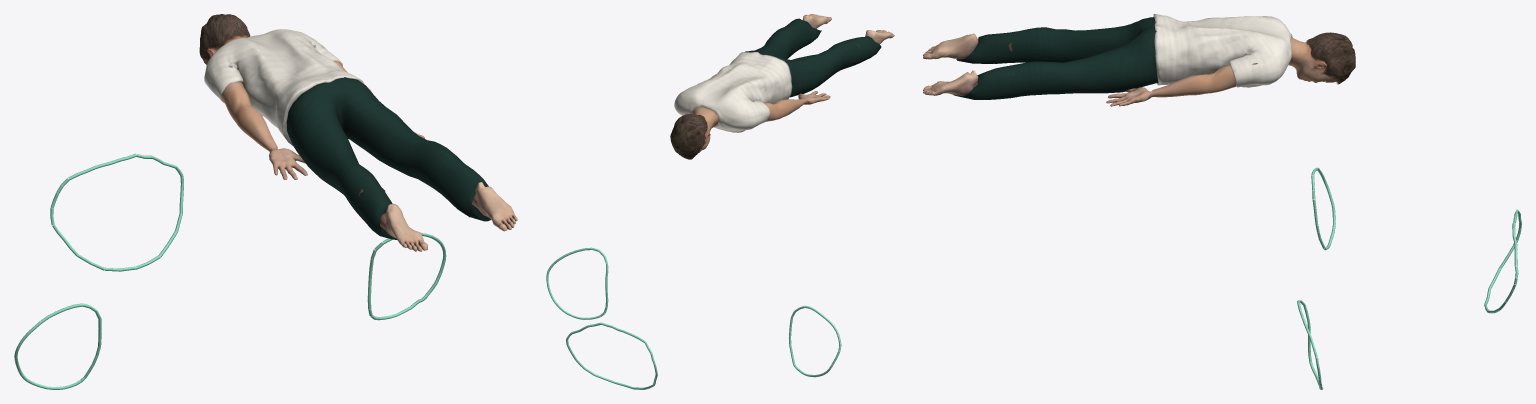
File: patient.glb
The picture shows the model from 3 angles, left to right: view 1: azimuth 30°, elevation 25°; view 2: azimuth 150°, elevation 25°; view 3: azimuth 270°, elevation 25°; orthographic projection. The views are drawn at different scales.
Visible parts, largest first — view 1: back_patient_pants, back_patient_shirt, back_patient_skin, back_tailored_hem, back_patient_hair; view 2: back_patient_shirt, back_patient_pants, back_tailored_hem, back_patient_skin, back_patient_hair; view 3: back_patient_pants, back_patient_shirt, back_patient_skin, back_tailored_hem, back_patient_hair.
Part boxes in pixels (left/top/right/bottom): back_patient_pants: left=286, top=77, right=490, bottom=239; back_patient_shirt: left=204, top=29, right=364, bottom=146; back_patient_skin: left=207, top=35, right=517, bottom=251; back_tailored_hem: left=14, top=153, right=446, bottom=389; back_patient_hair: left=199, top=14, right=250, bottom=64; back_patient_shirt: left=674, top=52, right=792, bottom=132; back_patient_pants: left=745, top=18, right=881, bottom=97; back_tailored_hem: left=546, top=247, right=841, bottom=389; back_patient_skin: left=692, top=14, right=894, bottom=152; back_patient_hair: left=670, top=114, right=707, bottom=159; back_patient_pants: left=953, top=17, right=1158, bottom=99; back_patient_shirt: left=1153, top=14, right=1292, bottom=87; back_patient_skin: left=923, top=33, right=1335, bottom=106; back_tailored_hem: left=1297, top=167, right=1521, bottom=389; back_patient_hair: left=1306, top=32, right=1355, bottom=84.
Bounding box in the file's own units: 1.69 × 1.32 × 2.43.
Materials: 5 (4 with a texture image).
